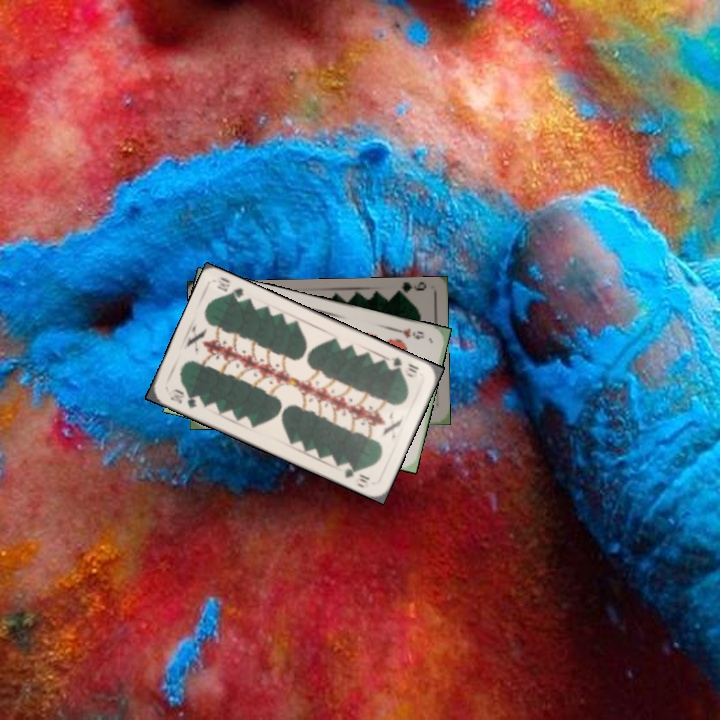G10: (386, 353, 422, 379), (166, 385, 199, 411)
G9: (391, 280, 429, 300)
H9: (392, 324, 427, 342)
